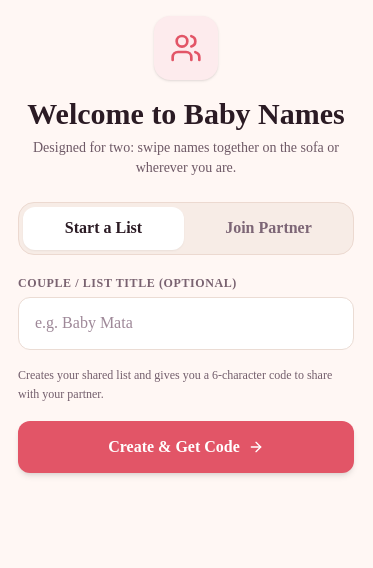
Test: OnboardingScreen › creates a couple and shows its invite code
Type "Our shortlist" into the field with placeholder "e.g. Baby Mata" at (186, 323), box [18,297,354,350]
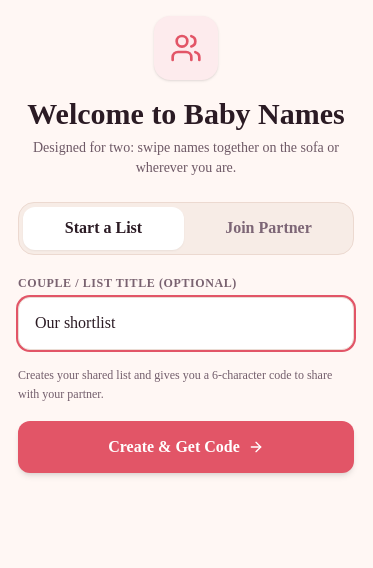
Click the button "Create & Get Code" at (186, 447), box [18,421,354,473]
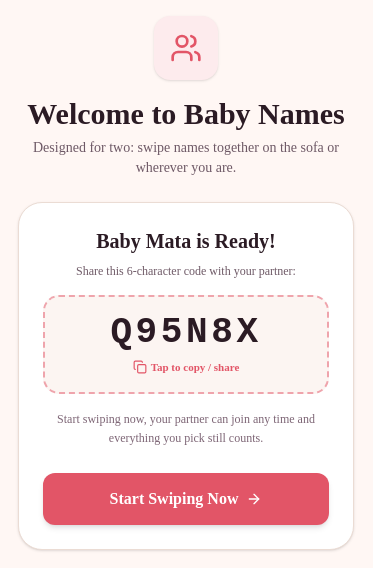
Expected: the text "Q95N8X" is shown, [110,313,262,353]
Expected: the button "Start Swiping Now" is shown, [43,472,329,524]
